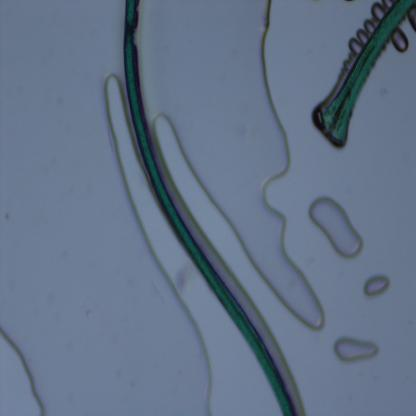Air bubble: (103, 74, 227, 415), (197, 25, 325, 329), (0, 324, 46, 414), (308, 194, 365, 261), (331, 329, 381, 367), (365, 273, 390, 301), (393, 30, 410, 53), (348, 35, 362, 58), (372, 3, 388, 20), (406, 7, 416, 30), (356, 28, 369, 45), (363, 19, 375, 33)
Microfibre: (123, 2, 294, 416), (312, 0, 416, 148)
